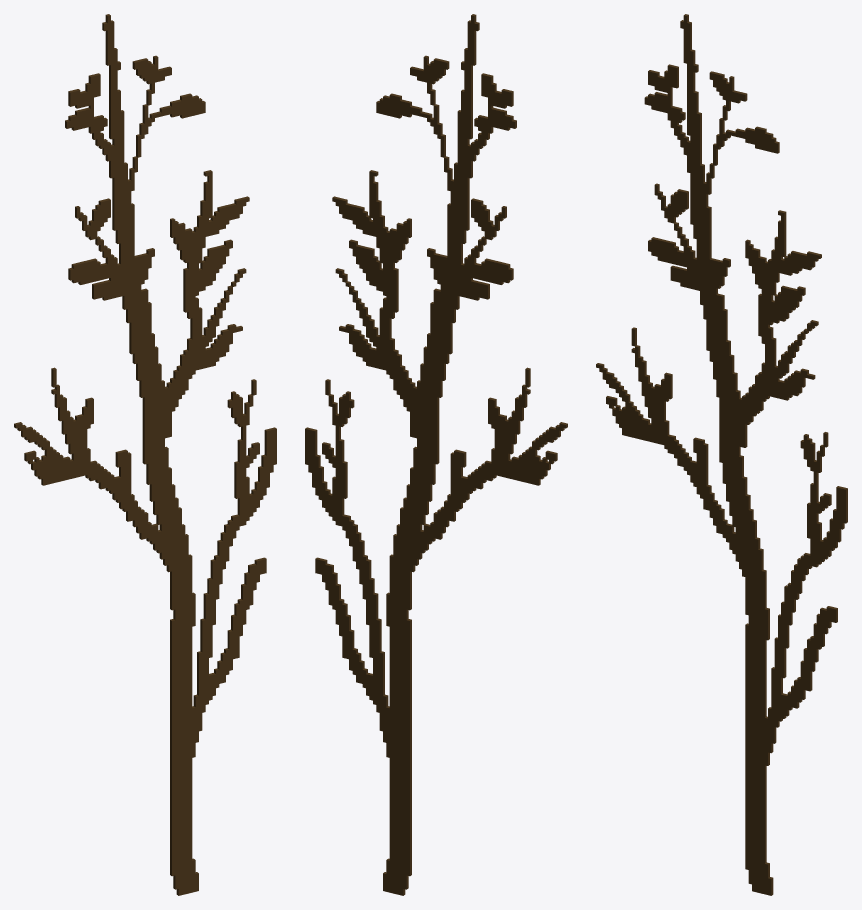
Rendered from forest1.2-90.obj.
3 views of the same model, side by side, from view 1: azimuth 30°, elevation 25°; view 2: azimuth 150°, elevation 25°; view 3: azimuth 330°, elevation 25° (orthographic). The views are drawn at different scales.
Bounding box in the file's own units: 7.7 × 25.3 × 0.1.
1 material, 1 textured.
